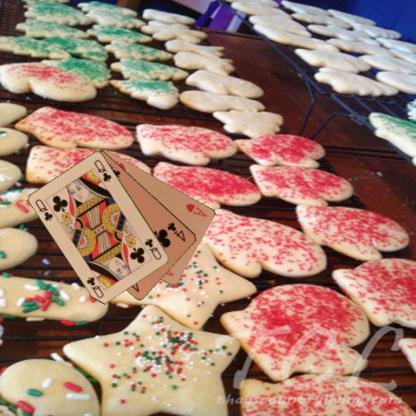4c: (165, 220, 187, 243)
Ah: (183, 201, 209, 218)
Qc: (33, 197, 54, 223), (142, 236, 163, 261)
